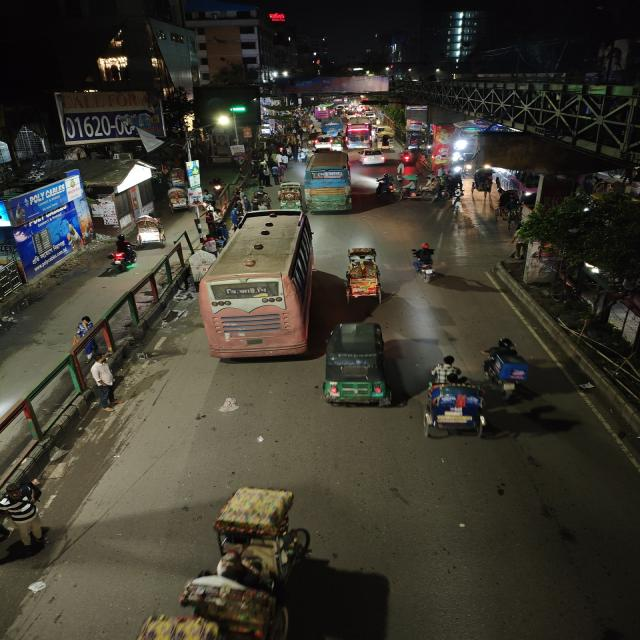bus: (198, 209, 320, 363), (303, 149, 356, 215), (344, 120, 374, 148), (317, 118, 343, 136), (313, 105, 333, 118)
car: (358, 148, 387, 167), (312, 135, 334, 150)
cng: (319, 318, 392, 410)
human_hauler: (376, 132, 396, 150)
motorcycle: (480, 334, 541, 402), (406, 242, 443, 284), (104, 238, 140, 273), (372, 172, 398, 202), (400, 179, 426, 203), (397, 148, 417, 164)
pedestrian: (88, 359, 130, 412)
rickshaw: (182, 481, 322, 640), (416, 356, 492, 440), (339, 246, 390, 306), (132, 215, 170, 247), (494, 189, 524, 228), (166, 185, 193, 213), (469, 169, 495, 197), (277, 181, 302, 208)
